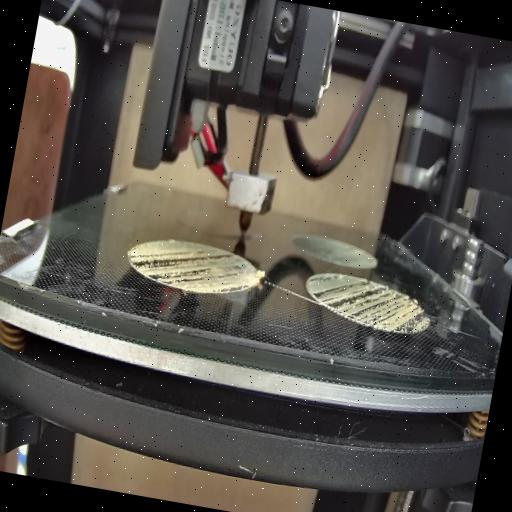under_extrusion: (122, 233, 256, 303), (305, 267, 433, 335)
